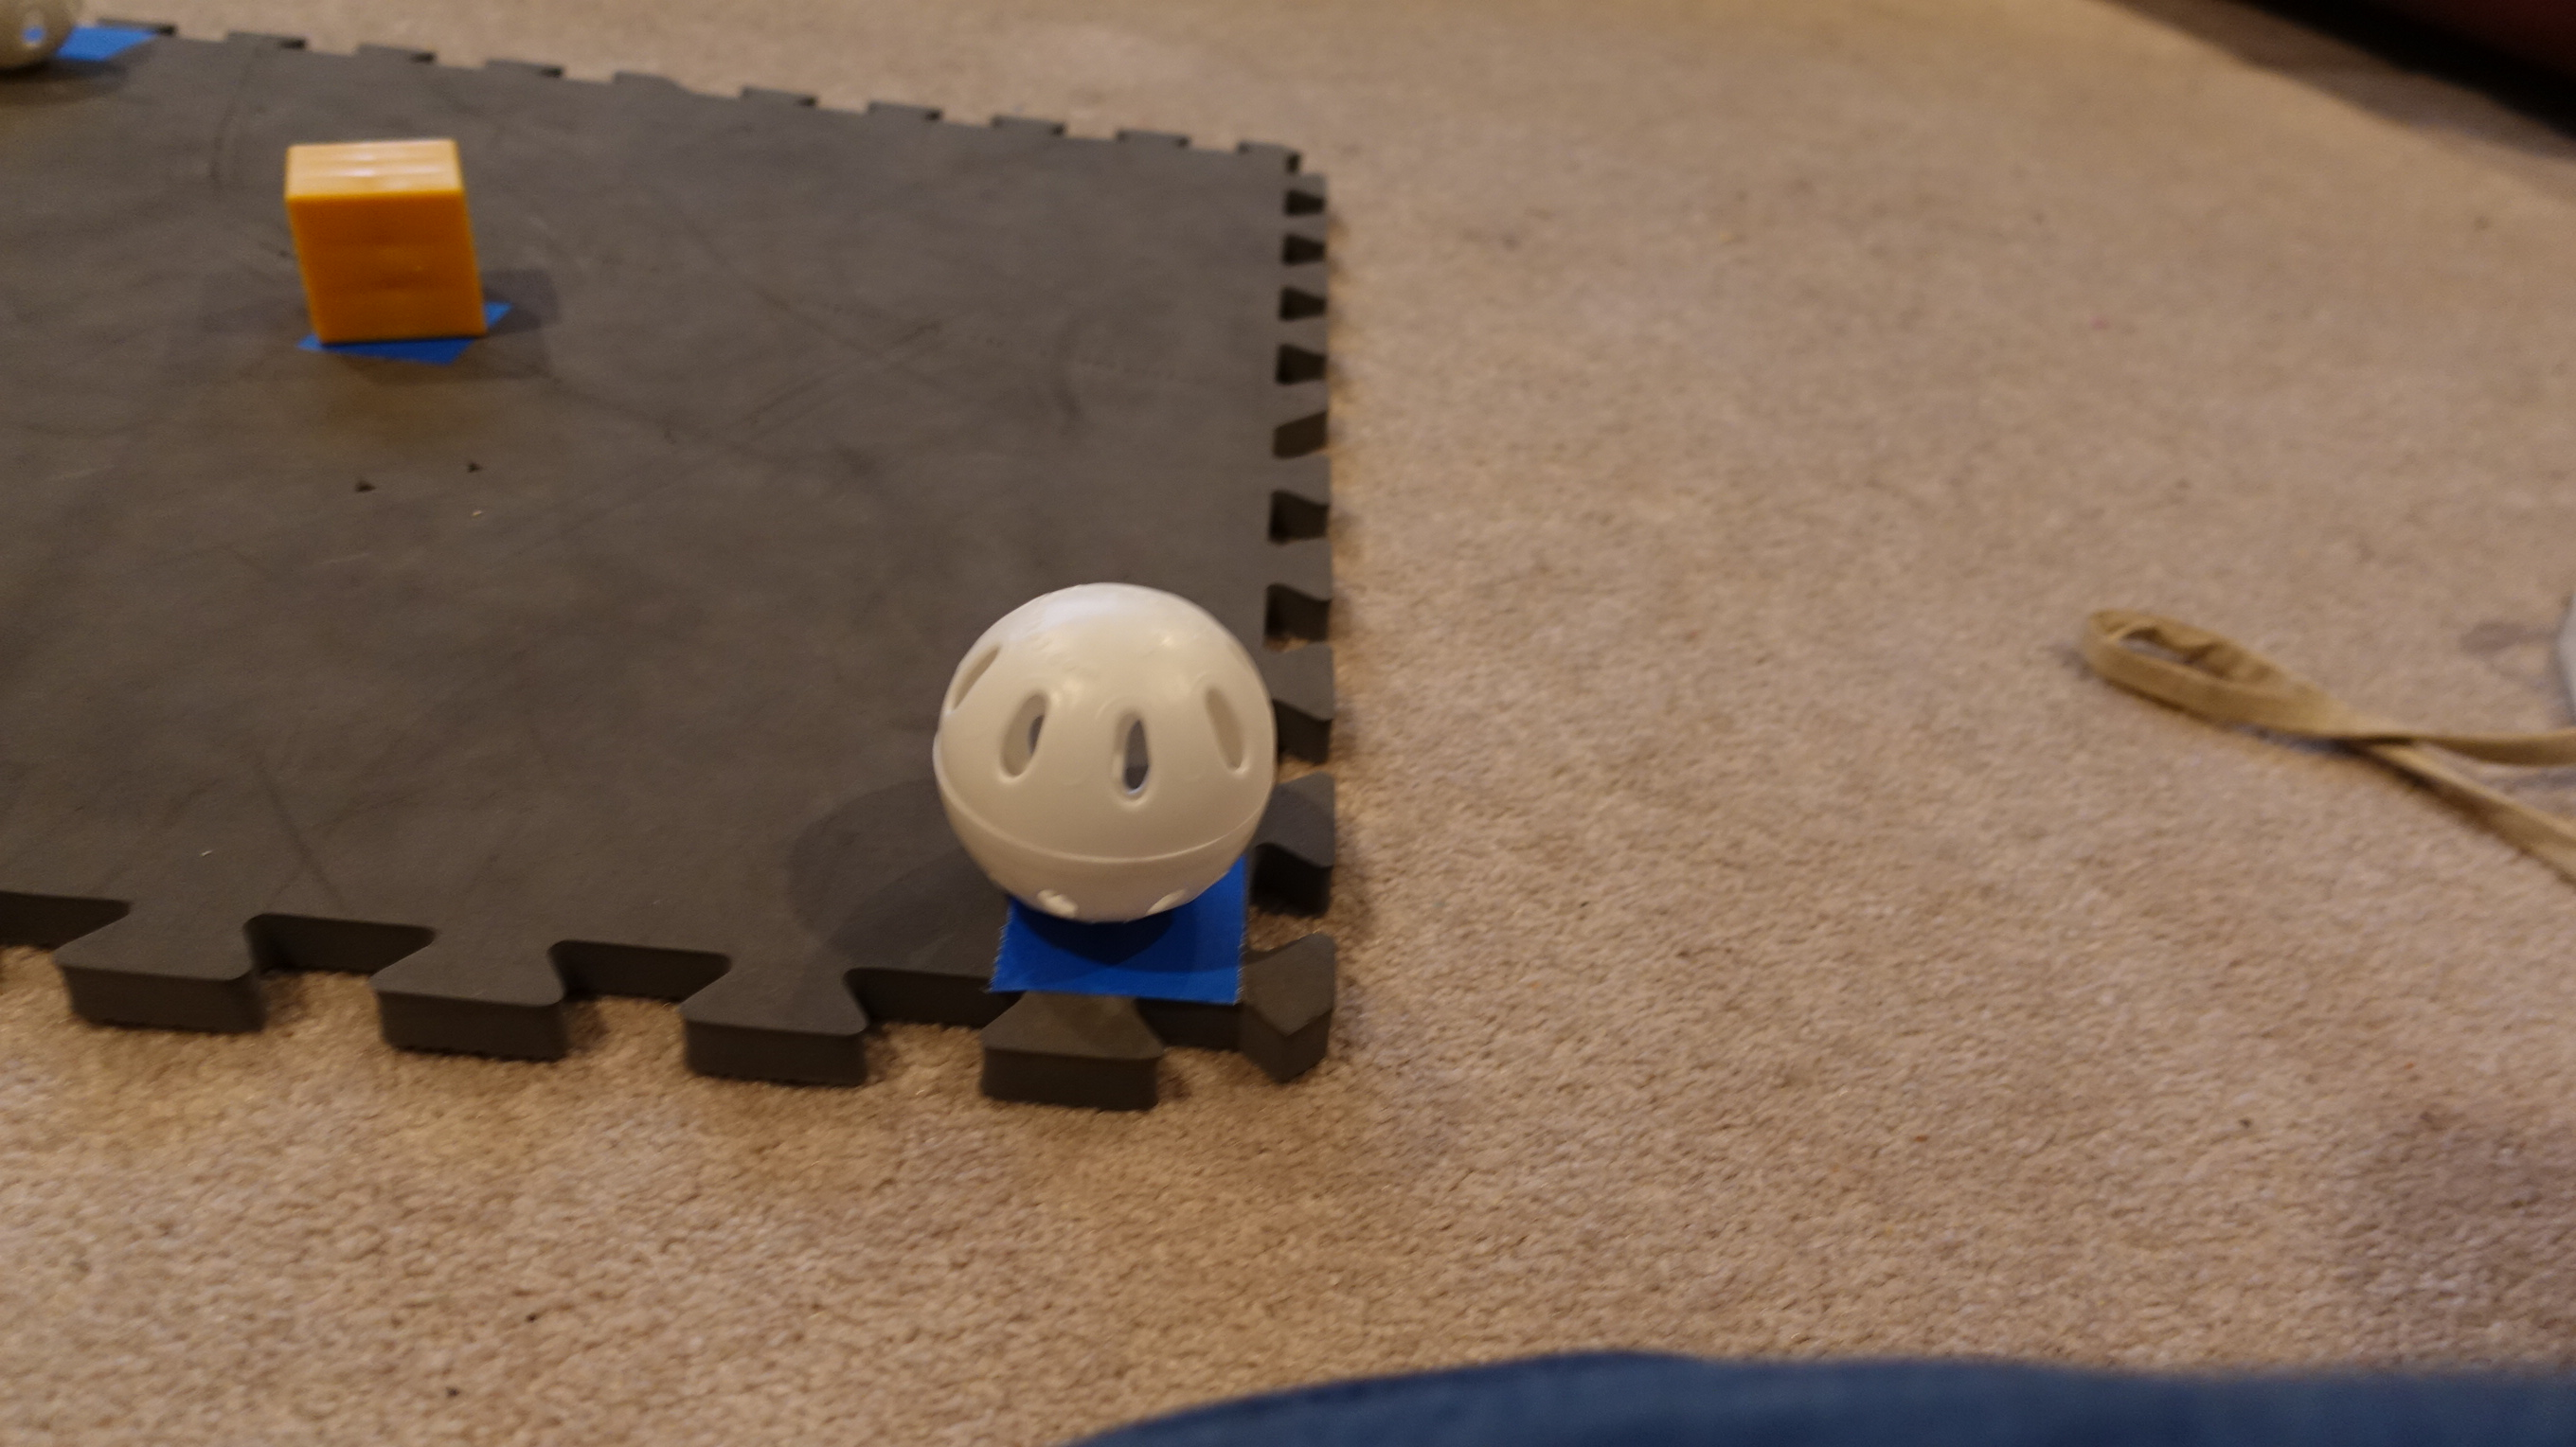gold: (272, 124, 502, 354)
silver: (920, 564, 1297, 934), (2, 2, 103, 97)
